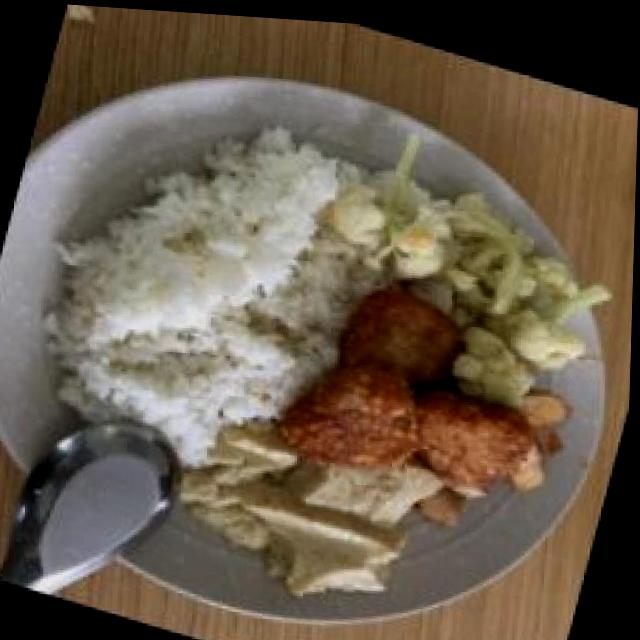rice: (7, 71, 406, 499)
triangle_hash_brown: (276, 265, 569, 520)
